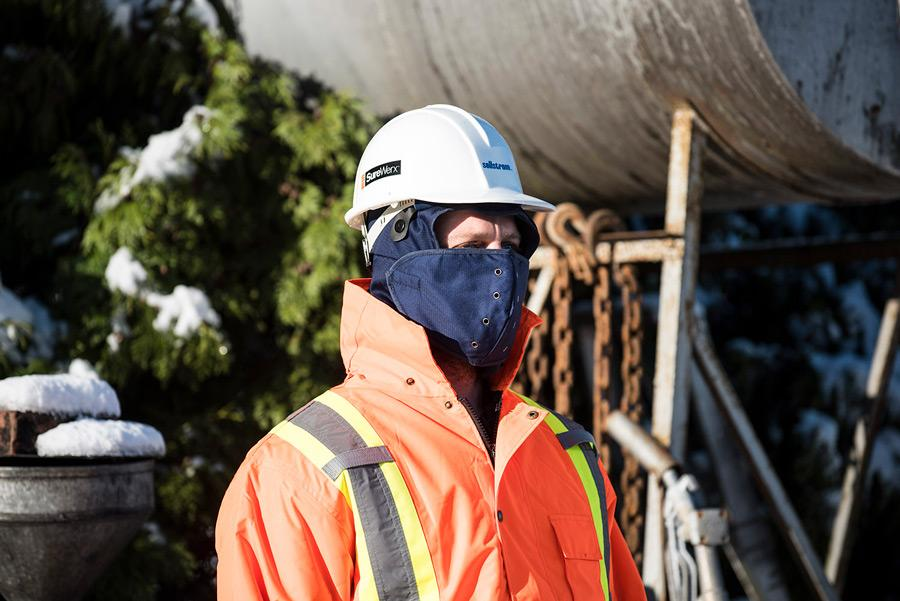helmet: (349, 104, 559, 223)
